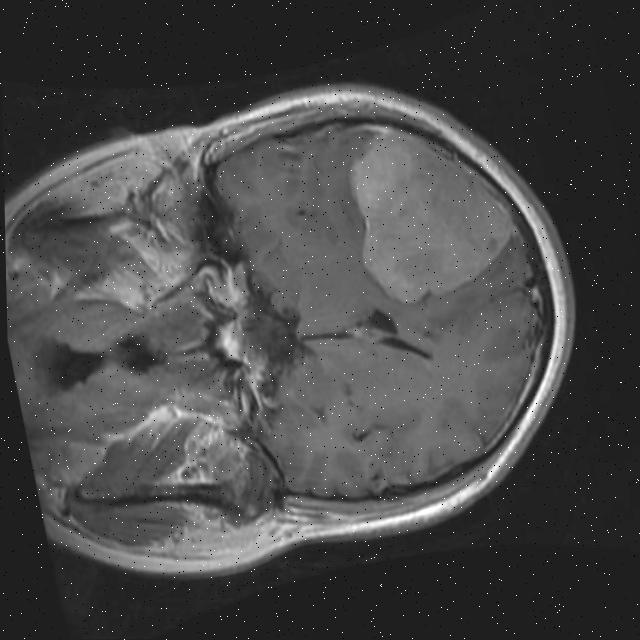Meningioma: (334, 108, 528, 315)
Pituitary: (209, 318, 249, 363)
